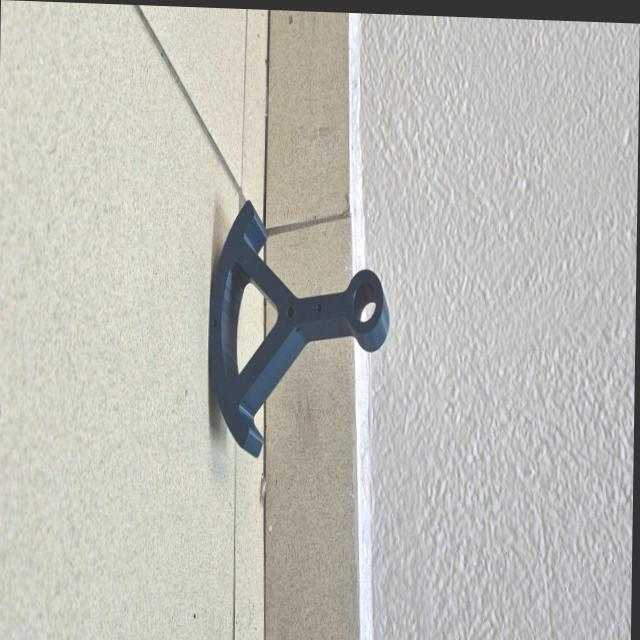haptic: (204, 196, 392, 465)
